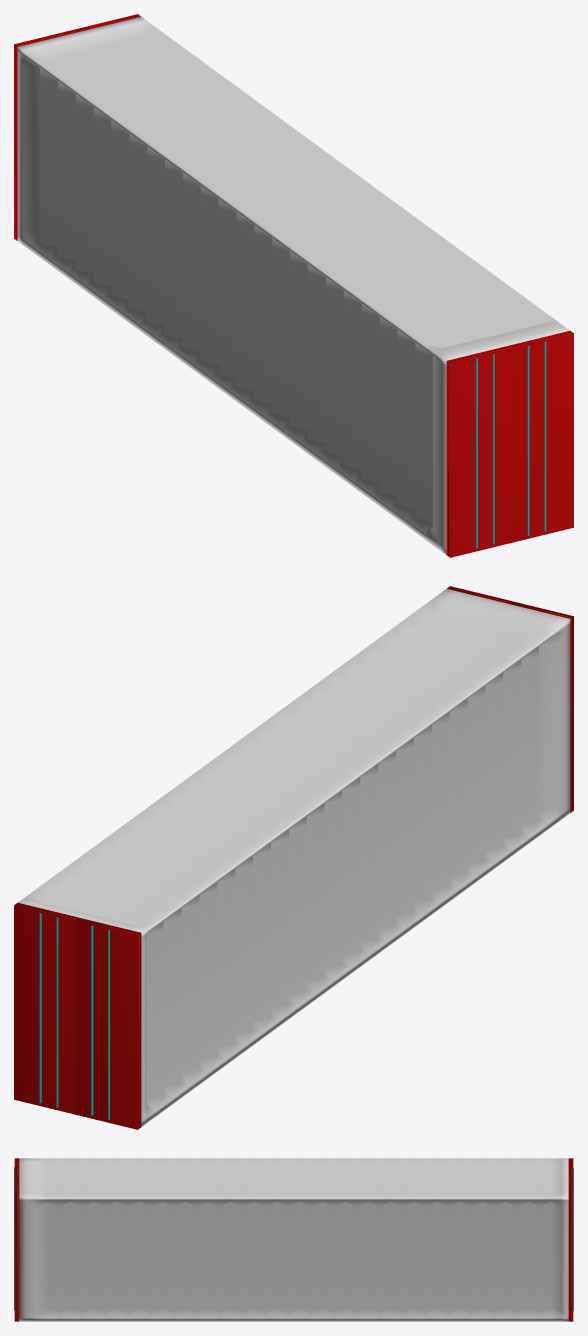
File: SM_WA_ShippingContainerWithDoors_v03.fbx
3 renders of one model, top to bottom at view 1: azimuth 30°, elevation 25°; view 2: azimuth 150°, elevation 25°; view 3: azimuth 270°, elevation 25°, orthographic. The views are drawn at different scales.
Visible parts, largest first — view 1: SM_WA_ShippingContainerOpen_v01, SM_WA_ShippingContainerDoorLeft_v03, SM_WA_ShippingContainerDoorRight_v03, SM_WA_ShippingContainerDoorRight_v02; view 2: SM_WA_ShippingContainerOpen_v01, SM_WA_ShippingContainerDoorRight_v02, SM_WA_ShippingContainerDoorLeft_v02, SM_WA_ShippingContainerDoorLeft_v03; view 3: SM_WA_ShippingContainerOpen_v01, SM_WA_ShippingContainerDoorLeft_v02, SM_WA_ShippingContainerDoorRight_v03.
Part boxes in pixels (x1,y1,x2,y2): SM_WA_ShippingContainerOpen_v01: [17, 17, 569, 554]; SM_WA_ShippingContainerDoorLeft_v03: [446, 346, 511, 557]; SM_WA_ShippingContainerDoorRight_v03: [508, 330, 573, 542]; SM_WA_ShippingContainerDoorRight_v02: [14, 29, 78, 240]; SM_WA_ShippingContainerOpen_v01: [18, 588, 570, 1126]; SM_WA_ShippingContainerDoorRight_v02: [76, 918, 141, 1129]; SM_WA_ShippingContainerDoorLeft_v02: [14, 902, 79, 1114]; SM_WA_ShippingContainerDoorLeft_v03: [508, 601, 573, 812]; SM_WA_ShippingContainerOpen_v01: [19, 1158, 568, 1321]; SM_WA_ShippingContainerDoorLeft_v02: [568, 1177, 573, 1321]; SM_WA_ShippingContainerDoorRight_v03: [14, 1177, 19, 1321].
Size of the model in its own units: 2 by 3 by 12.24.
